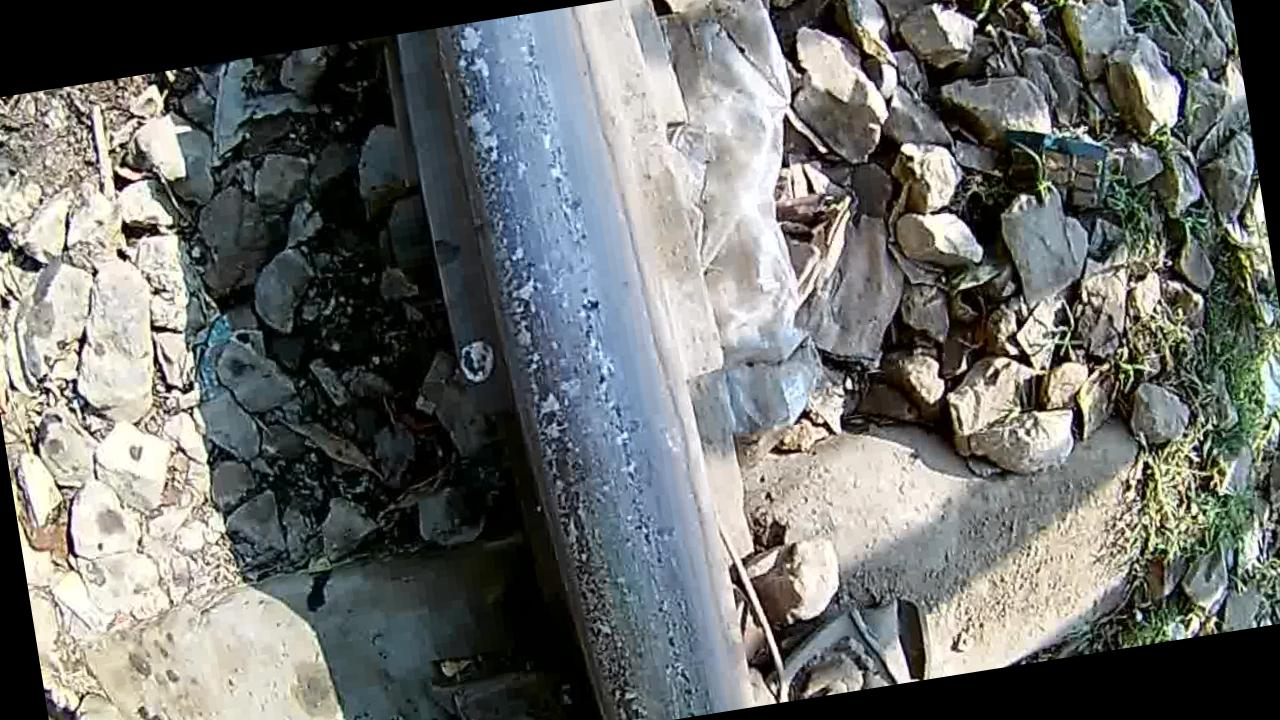clip_missing: (418, 0, 747, 720)
